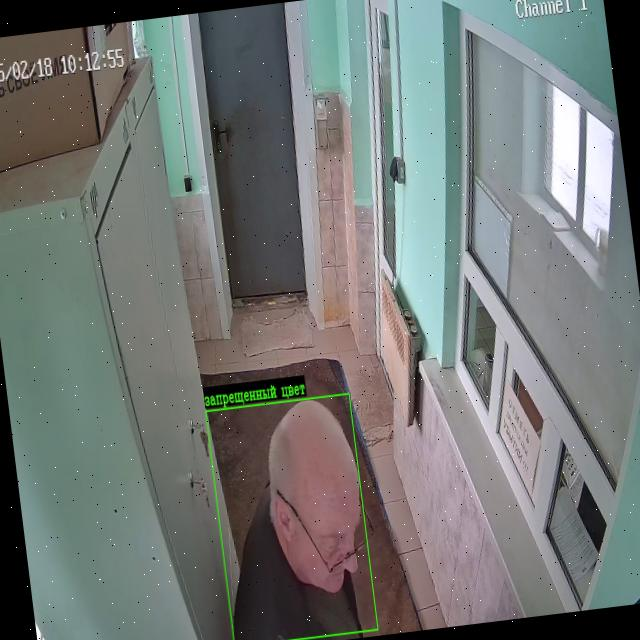Person: (234, 400, 361, 640)
